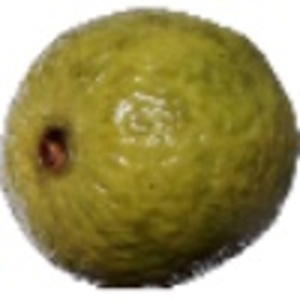goiaba: (6, 6, 299, 292)
